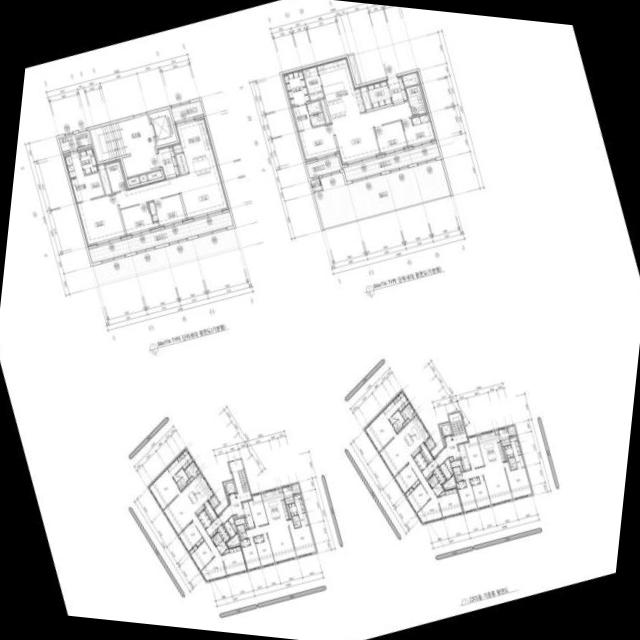background: (0, 0, 640, 640)
space_balconi: (88, 211, 233, 262), (306, 142, 440, 181), (170, 100, 203, 121), (58, 134, 78, 151), (208, 494, 219, 508), (425, 437, 435, 450), (507, 425, 516, 436), (291, 483, 300, 494)
space_bedroom: (76, 194, 125, 246), (297, 123, 338, 161), (148, 468, 180, 509), (364, 410, 396, 451), (120, 202, 159, 235), (148, 194, 186, 227), (401, 113, 436, 147), (503, 461, 532, 499), (374, 121, 407, 154), (287, 519, 316, 556), (188, 540, 214, 571), (404, 482, 430, 513), (394, 463, 420, 493), (178, 521, 204, 551), (438, 487, 463, 517), (222, 545, 247, 575), (248, 493, 268, 526), (255, 533, 275, 566), (464, 435, 484, 468), (458, 479, 477, 512), (242, 537, 261, 570), (472, 475, 491, 508), (254, 534, 264, 543), (470, 476, 480, 485), (456, 480, 466, 488), (240, 538, 250, 546)
space_dressroom: (282, 69, 310, 106), (63, 152, 84, 179), (78, 146, 98, 174), (177, 448, 193, 470), (393, 390, 409, 412), (293, 494, 305, 513), (509, 436, 521, 455), (288, 503, 297, 515), (504, 445, 513, 457)
space_elevator: (149, 108, 177, 145), (223, 480, 236, 495), (439, 422, 452, 437)
space_elevator_hall: (122, 114, 160, 177), (219, 459, 251, 523), (435, 401, 467, 465)
space_front: (157, 144, 180, 178), (386, 75, 407, 103), (242, 501, 254, 528), (458, 443, 470, 470), (206, 517, 222, 537), (422, 459, 438, 479), (198, 509, 211, 528), (217, 524, 230, 543), (433, 466, 446, 485), (414, 452, 427, 470)
space_kitchen: (317, 57, 365, 121), (175, 116, 218, 173), (181, 472, 214, 515), (398, 414, 430, 457), (260, 488, 289, 524), (477, 430, 505, 466)
space_living_room: (116, 166, 229, 219), (163, 492, 226, 581), (379, 434, 442, 523), (332, 101, 412, 165), (462, 461, 512, 504), (246, 519, 296, 562)
space_multipurpose_space: (302, 65, 324, 101)
space_other: (366, 79, 392, 107), (97, 163, 111, 194), (348, 54, 361, 85), (360, 85, 372, 109), (420, 442, 433, 464), (204, 500, 217, 522), (175, 152, 188, 174), (402, 71, 418, 86), (320, 99, 330, 123), (184, 461, 198, 478), (400, 403, 414, 420), (282, 485, 294, 504), (498, 427, 510, 446), (440, 462, 452, 479), (224, 520, 235, 537), (227, 533, 240, 546), (443, 475, 456, 488), (444, 457, 453, 475), (228, 515, 237, 532), (147, 170, 162, 180), (451, 459, 463, 471), (235, 517, 247, 529), (127, 176, 140, 185), (173, 142, 182, 153), (139, 174, 147, 182), (402, 418, 410, 425), (287, 504, 291, 518), (503, 446, 507, 460), (186, 476, 193, 483), (222, 548, 229, 553), (439, 490, 445, 495), (443, 438, 446, 446), (227, 496, 230, 504), (412, 411, 416, 416), (278, 487, 282, 492), (196, 469, 200, 474), (494, 429, 498, 434), (449, 456, 453, 460), (233, 514, 237, 518)
space_outdoor_room: (75, 130, 91, 147), (310, 178, 322, 191)
space_staircase: (90, 121, 130, 161), (237, 469, 249, 492), (453, 411, 465, 434)
space_toilet: (291, 100, 325, 131), (70, 172, 104, 202), (105, 161, 126, 192), (406, 84, 426, 115), (173, 468, 189, 490), (389, 410, 405, 432), (167, 458, 181, 476), (383, 400, 397, 418), (432, 482, 443, 496), (216, 540, 227, 554), (237, 524, 247, 539), (453, 466, 463, 481), (298, 512, 308, 526), (514, 455, 524, 468), (211, 535, 219, 546), (428, 477, 435, 488), (431, 474, 438, 484), (215, 532, 222, 542), (509, 462, 517, 469), (292, 514, 299, 522), (293, 520, 301, 527), (508, 457, 515, 464)
